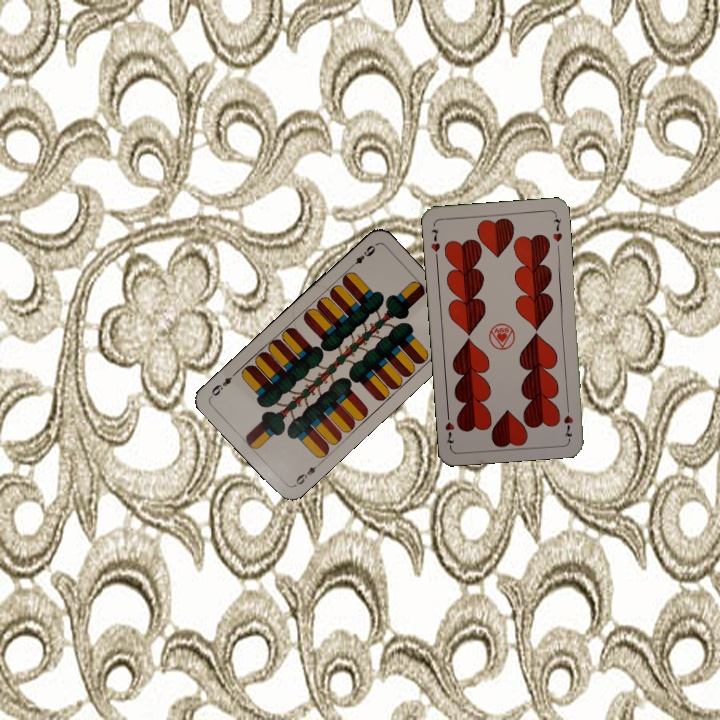E9: (290, 458, 324, 489), (346, 241, 378, 271)
H7: (560, 401, 575, 441), (427, 225, 443, 262)
